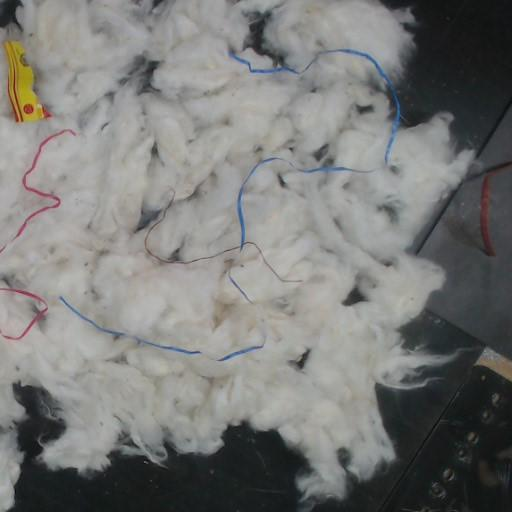cotton: (0, 0, 474, 511)
packet: (4, 43, 49, 122)
thread: (144, 156, 382, 284), (230, 48, 401, 162), (60, 296, 266, 362), (0, 129, 76, 254), (467, 160, 511, 256), (0, 287, 47, 340)
